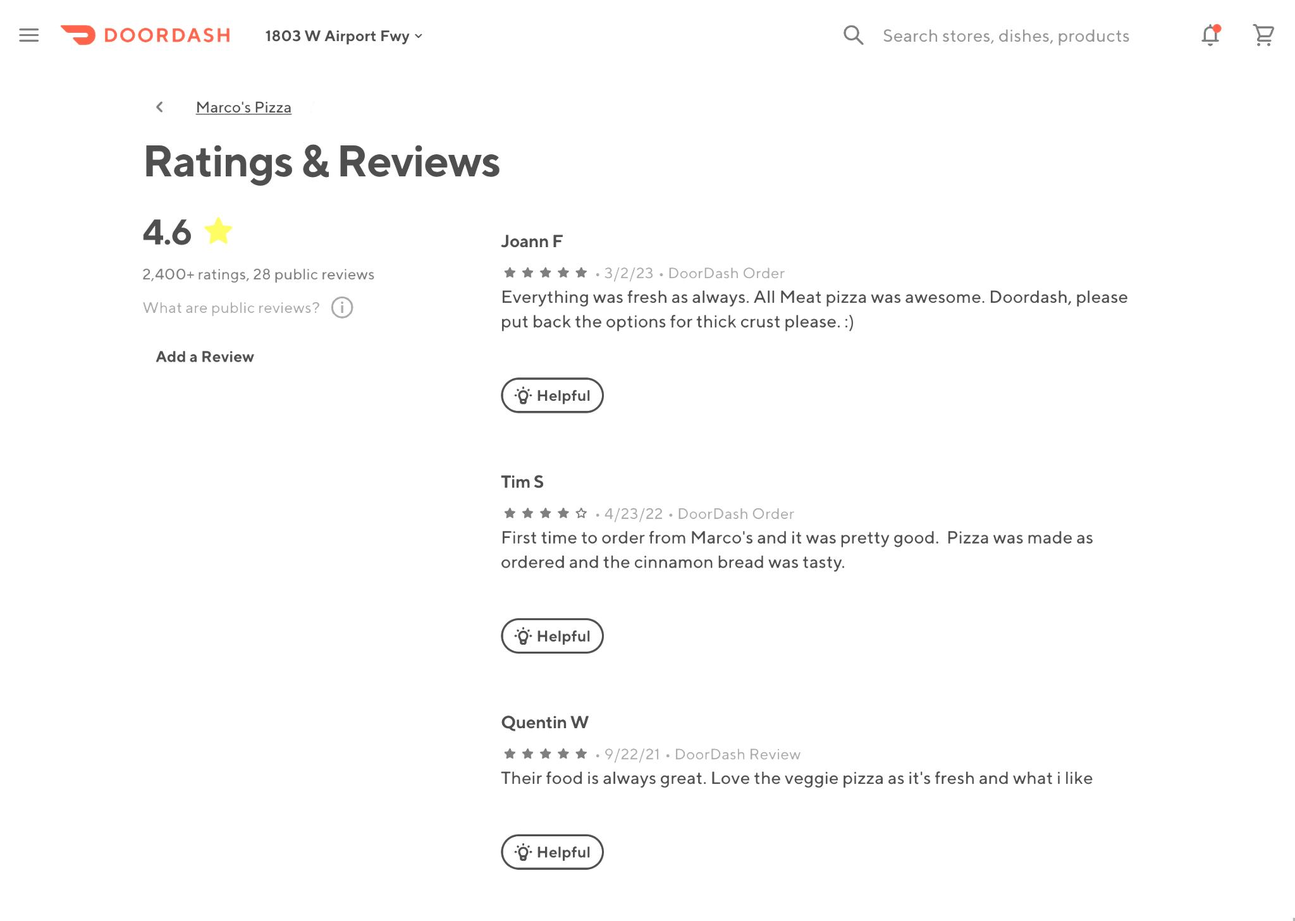webelement: (142, 133, 1175, 186), (882, 23, 1147, 47), (142, 262, 374, 284), (141, 338, 267, 373), (142, 296, 320, 318), (500, 377, 603, 412), (500, 618, 603, 653), (500, 834, 603, 869), (59, 25, 228, 45), (663, 742, 799, 764), (666, 502, 793, 524), (657, 261, 783, 283), (264, 26, 409, 44), (142, 209, 191, 253), (499, 709, 587, 733), (6, 13, 50, 57), (1241, 13, 1285, 57), (155, 346, 254, 364), (195, 97, 291, 115), (593, 502, 662, 524), (500, 228, 562, 252), (593, 742, 659, 764), (593, 261, 652, 283), (142, 88, 177, 123), (1196, 13, 1222, 57), (500, 468, 541, 492), (535, 626, 589, 644), (535, 386, 589, 403), (535, 843, 589, 860)
